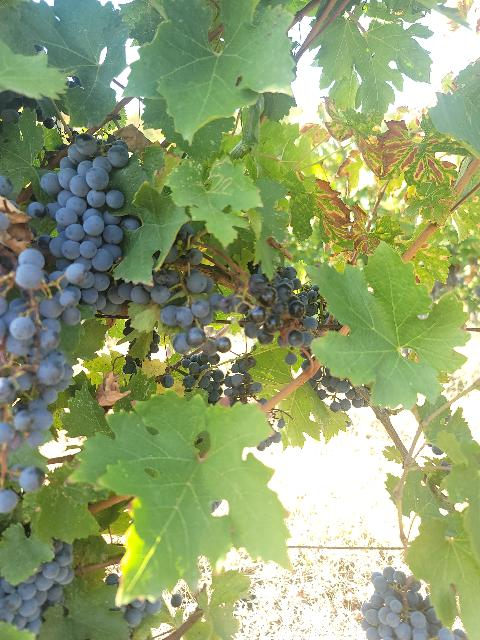grapes: (0, 248, 81, 449), (40, 132, 129, 309), (361, 566, 468, 640), (244, 266, 311, 348)
